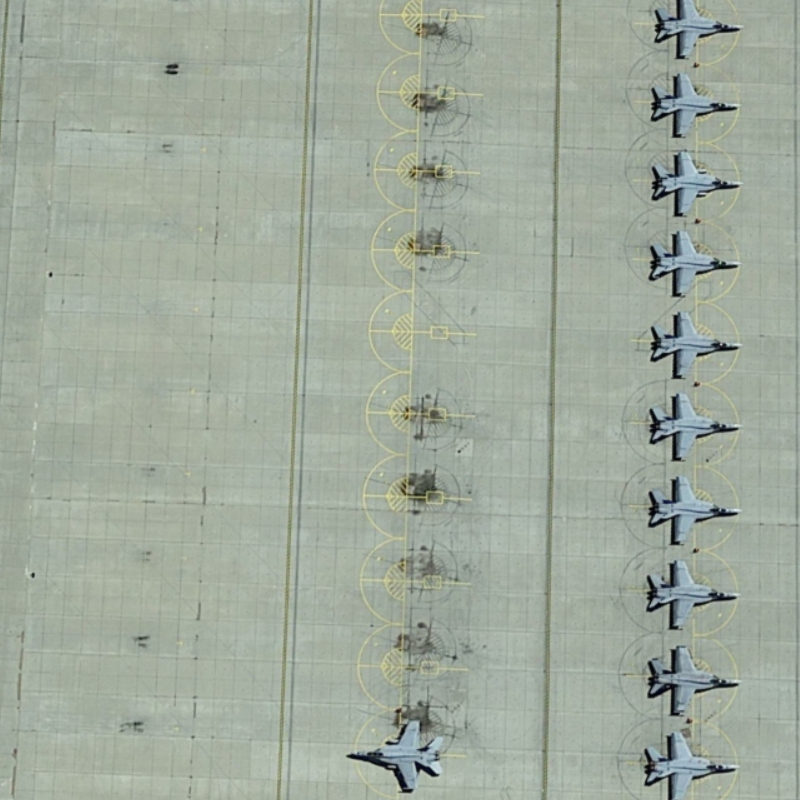A16: (344, 716, 446, 795), (641, 557, 745, 633), (642, 643, 743, 721), (645, 472, 745, 548), (645, 389, 745, 465), (639, 728, 743, 800), (646, 307, 744, 382), (648, 148, 746, 220), (646, 228, 743, 300), (647, 70, 743, 141), (648, 1, 746, 63)
